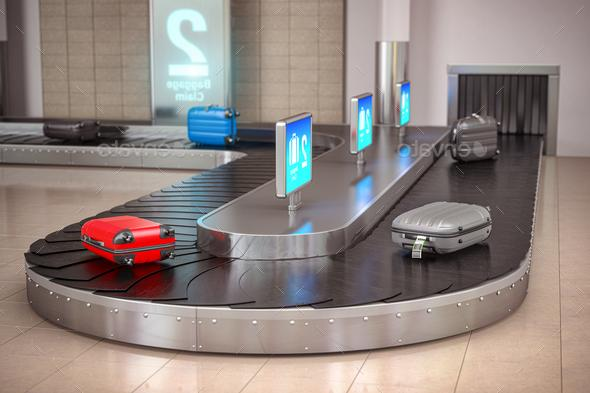baggage: (75, 211, 183, 271), (388, 198, 497, 256), (444, 113, 506, 165), (180, 100, 238, 152), (40, 111, 101, 146)
